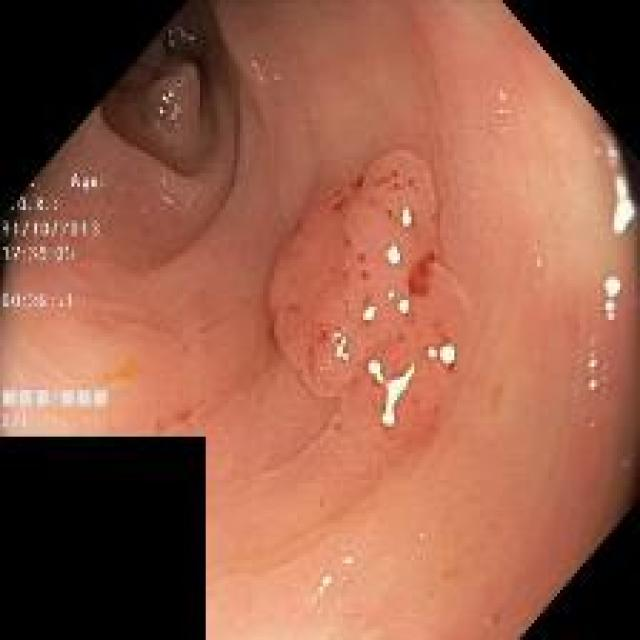Polyps: (269, 150, 471, 440)
